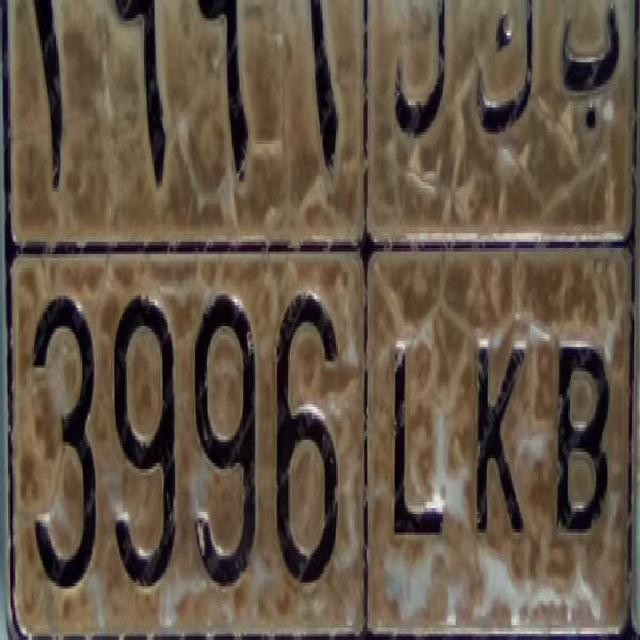license_plate: (3, 224, 624, 640)
